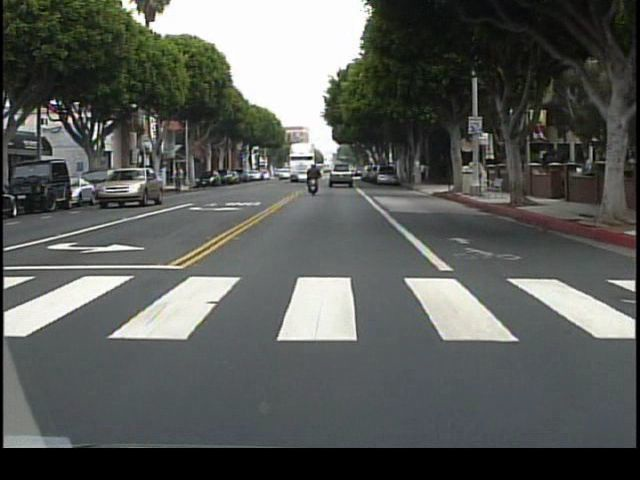person: (305, 158, 323, 199), (166, 163, 185, 190), (424, 160, 433, 188), (421, 162, 426, 184)
